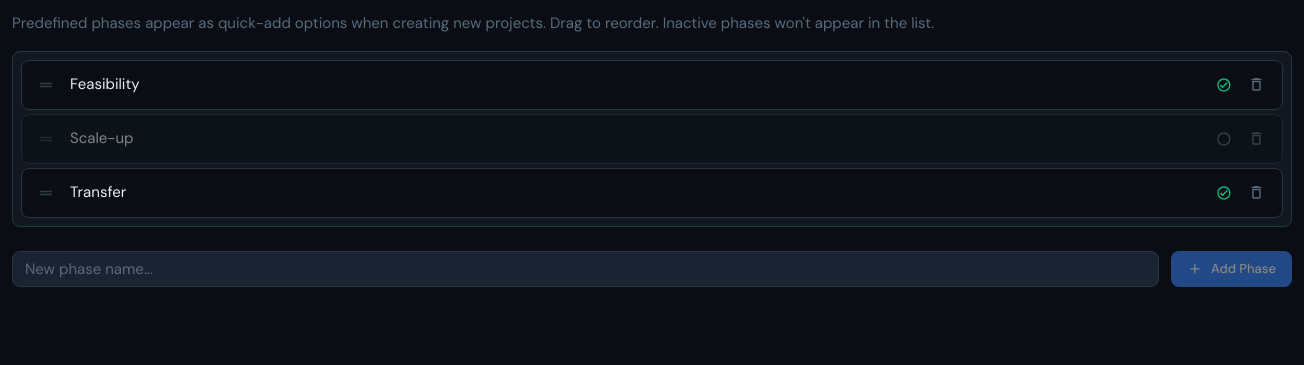
Scenario: PredefinedPhasesPanel › shows the error in place when a rename fails
Click the text "Feasibility": click(105, 84) [70,74,140,94]
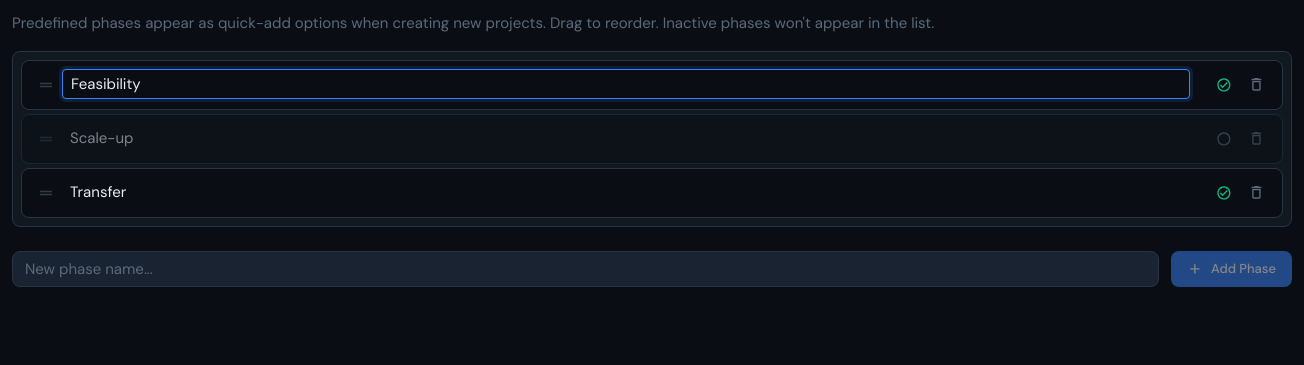
Replace the text in the field showing "Feasibility" with "X": (626, 84) [62,69,1190,99]
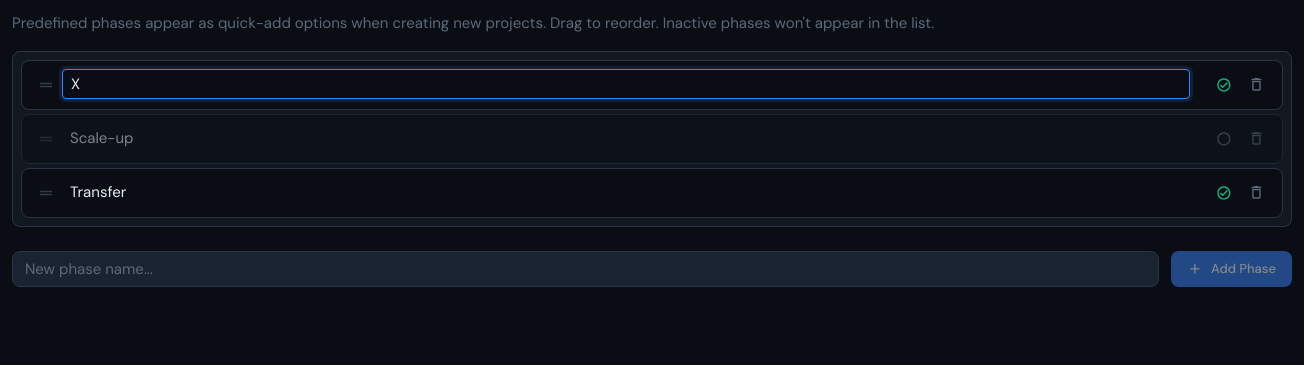
Leave the field showing "Feasibility", box [62,69,1190,99]
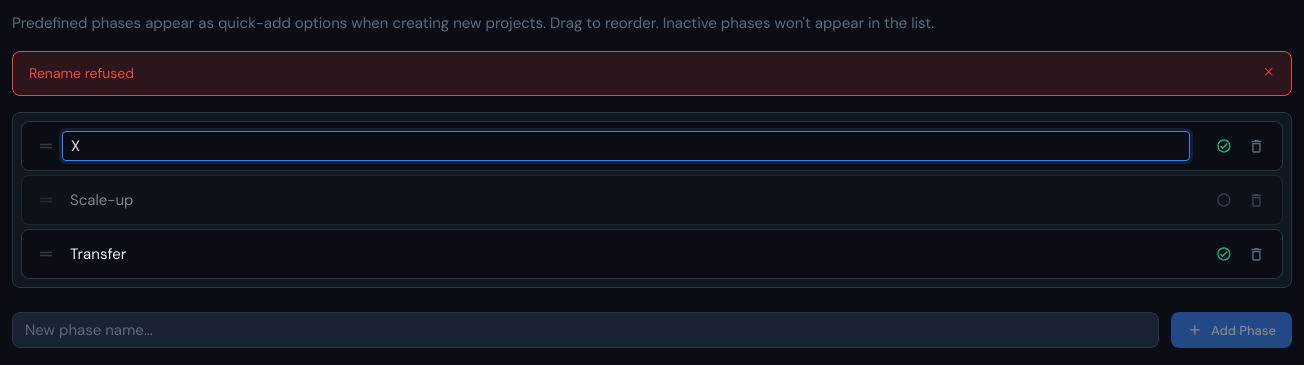
Result: the message reads "Rename refused" at [29,64,134,82]
